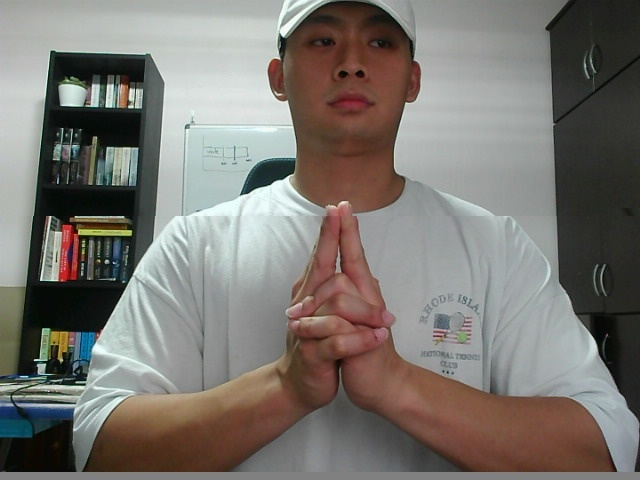Tiger: (268, 186, 419, 424)
